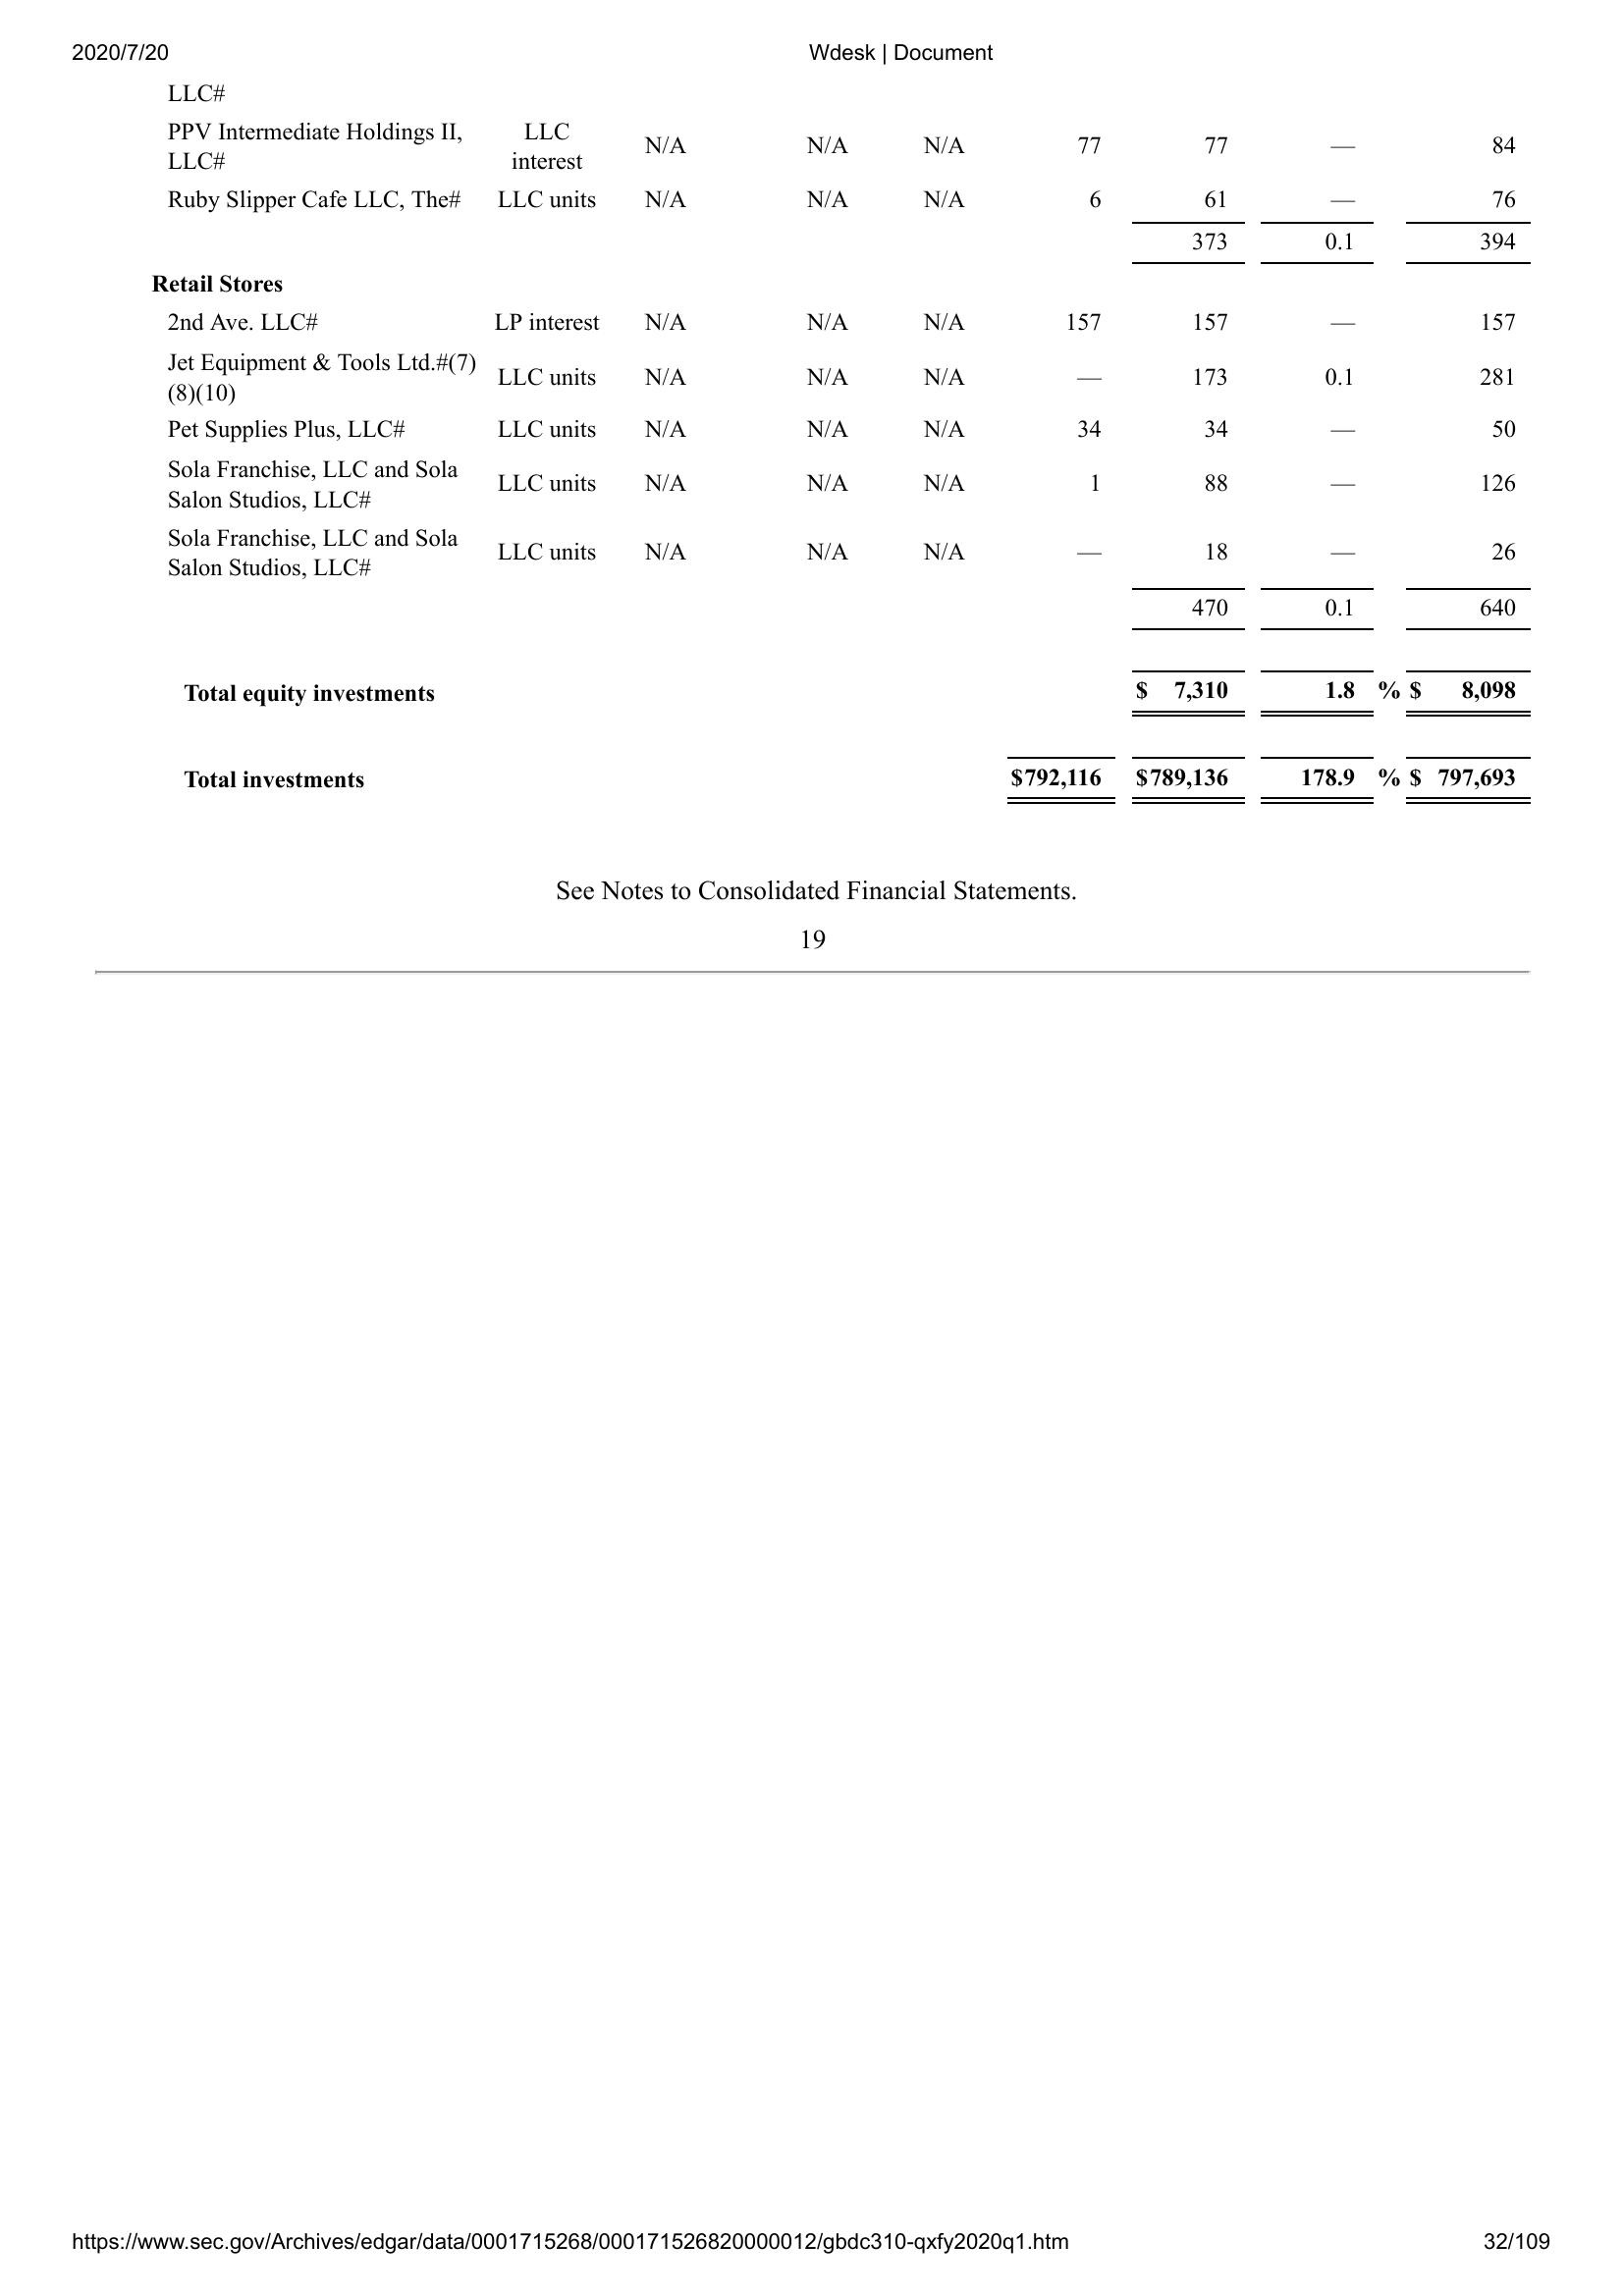table: (151, 68, 1539, 818)
